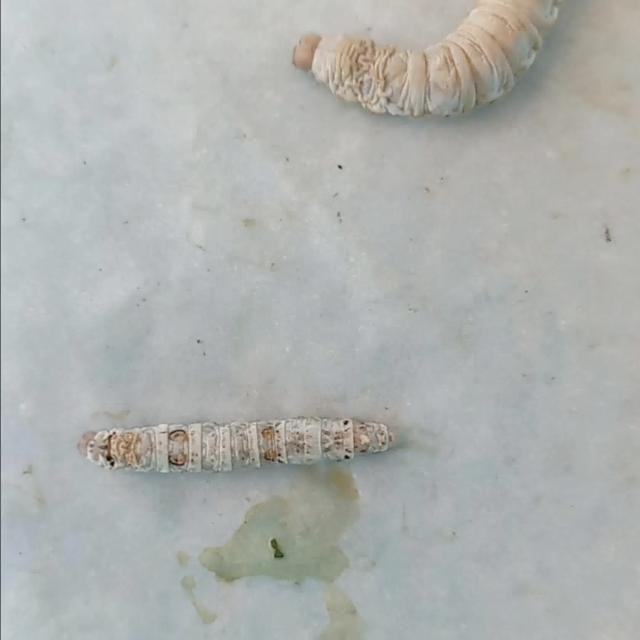Grasserie: (70, 376, 414, 496), (272, 0, 568, 132)
